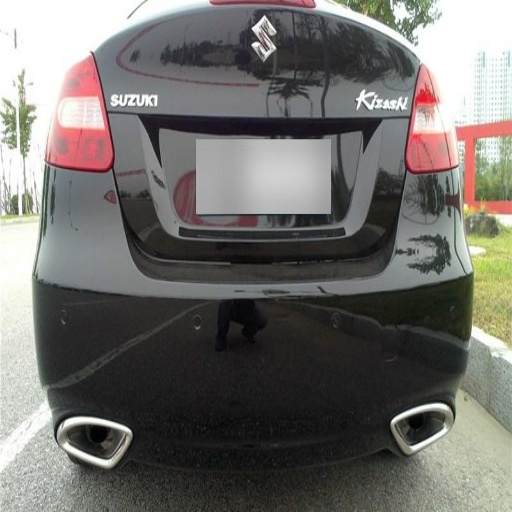back_bumper: (31, 165, 472, 382), (236, 411, 383, 459)
back_right_light: (407, 74, 455, 171)
tailgate: (93, 28, 417, 253)
